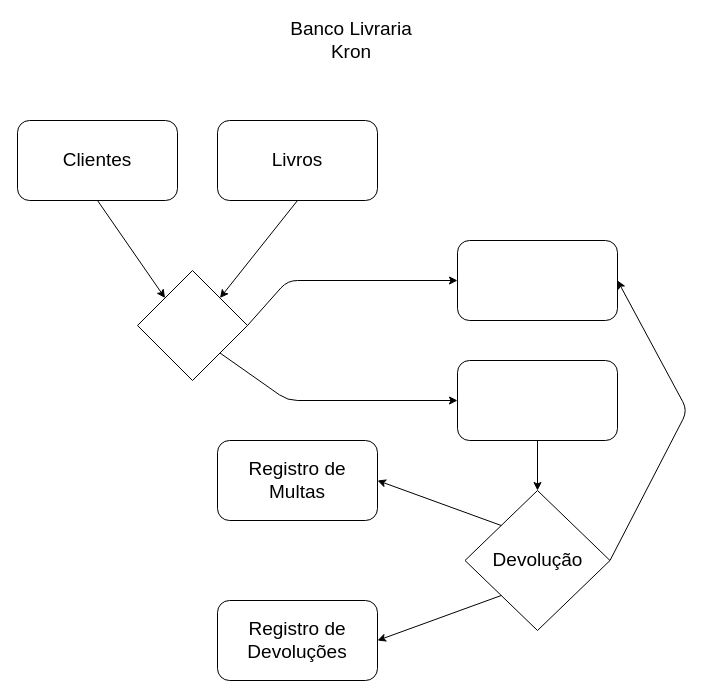
The diagram is 713 pixels wide and 698 high, and some of its shapes have lost their labels. Here are the shapes that lost their labels. From the top down, the box of each, then its label:
(456, 240, 618, 320): Registro de Ações
(136, 270, 248, 380): Alugar
(456, 360, 618, 440): Registro de Livros Alugados
